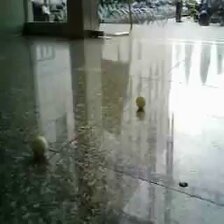w: (31, 136, 46, 155), (136, 95, 147, 107)
